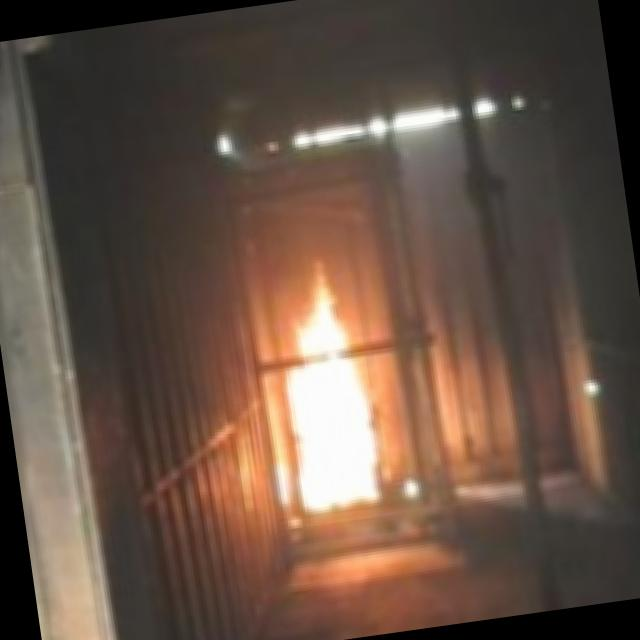fire: (253, 266, 396, 514)
